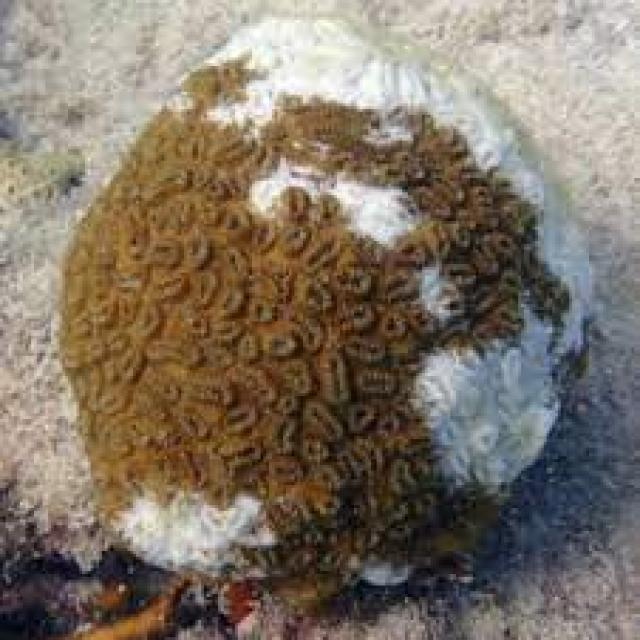Coral: (57, 16, 596, 612)
